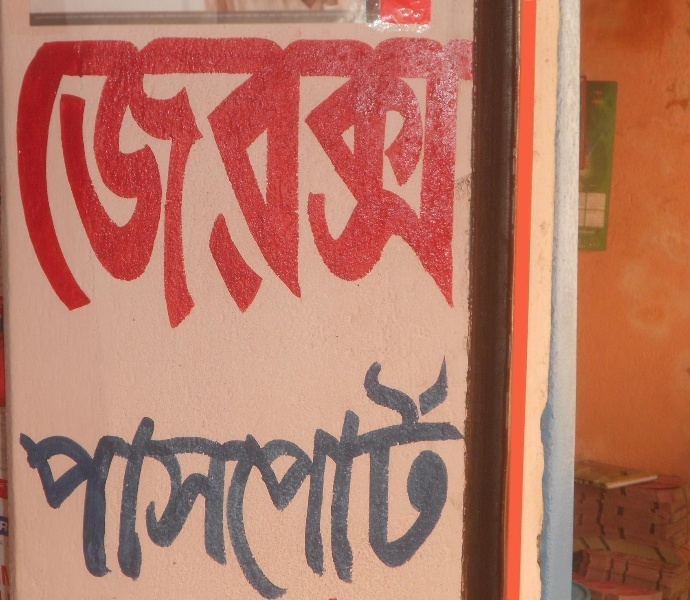text: (17, 38, 32, 330), (33, 38, 48, 330), (49, 38, 64, 330), (65, 38, 80, 330), (81, 38, 96, 330), (97, 38, 112, 330), (113, 38, 128, 330), (129, 38, 144, 330), (145, 38, 160, 330), (161, 38, 176, 330), (177, 38, 192, 330), (193, 38, 208, 330), (209, 38, 224, 330), (225, 38, 240, 330), (241, 38, 256, 330), (257, 38, 272, 330), (273, 38, 288, 330), (289, 38, 304, 330), (305, 38, 320, 330), (321, 38, 336, 330), (337, 38, 352, 330), (353, 38, 368, 330), (369, 38, 384, 330), (385, 38, 400, 330), (401, 38, 416, 330), (417, 38, 432, 330), (433, 38, 448, 330), (449, 38, 464, 330), (449, 354, 465, 600), (33, 354, 48, 600), (49, 354, 64, 600), (65, 354, 80, 600), (81, 354, 96, 600), (97, 354, 112, 600), (113, 354, 128, 600), (129, 354, 144, 600), (145, 354, 160, 600), (161, 354, 176, 600), (177, 354, 192, 600), (193, 354, 208, 600), (209, 354, 224, 600), (225, 354, 240, 600), (241, 354, 256, 600), (257, 354, 272, 600), (273, 354, 288, 600), (289, 354, 304, 600), (305, 354, 320, 600), (321, 354, 336, 600), (337, 354, 352, 600), (353, 354, 368, 600), (369, 354, 384, 600), (385, 354, 400, 600), (401, 354, 416, 600), (417, 354, 432, 600), (433, 354, 448, 600), (20, 354, 32, 600), (465, 38, 471, 330)
